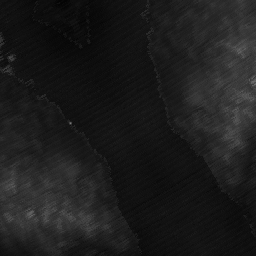Target: (68, 121, 73, 127)
